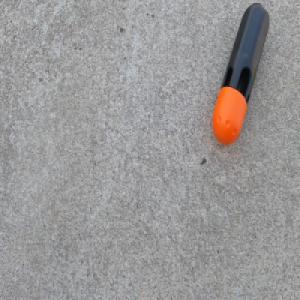PlasticPart: (211, 2, 271, 146)
